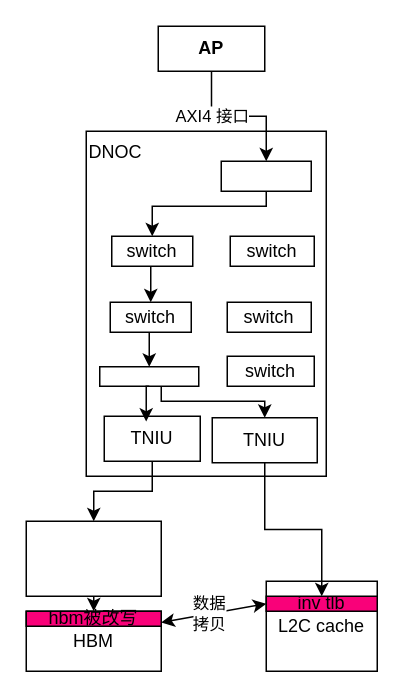
Image size: 404x698. Some labels were removed from this diagram. The centre of each missing label's shape, as x and y in pixels:
INIU: the point at 265,175
L2C probe: the point at 148,375
MC channel x (支持channel steering): the point at 93,558
